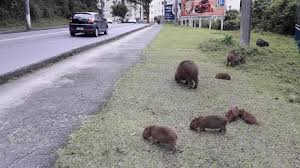capivara: (143, 125, 178, 154), (190, 115, 228, 135), (175, 59, 200, 89), (238, 109, 259, 126), (225, 106, 239, 125), (226, 51, 243, 66), (256, 37, 270, 48), (216, 72, 231, 82)
